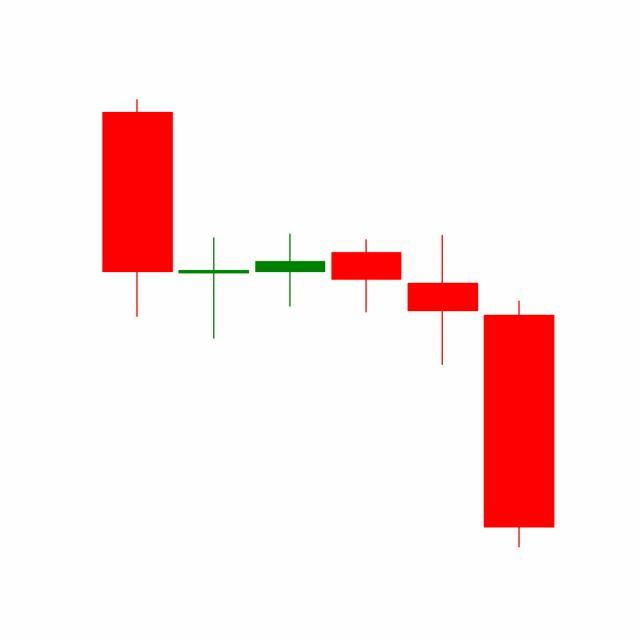Three Outside Up-Down: (252, 232, 482, 367)
